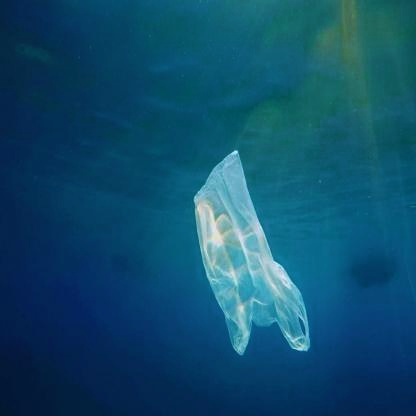pbag: (189, 145, 316, 359)
